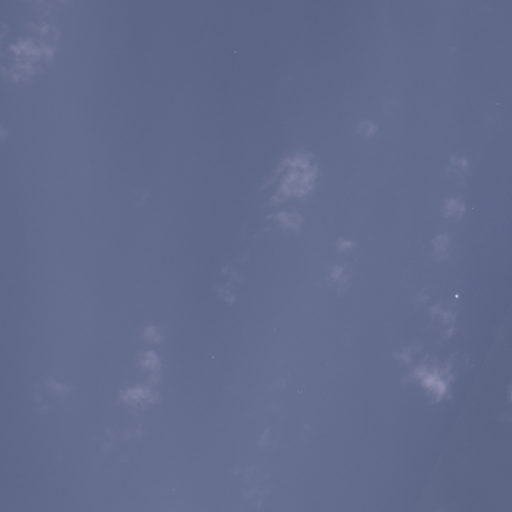Iceberg: (455, 294, 458, 297), (212, 356, 213, 357)
